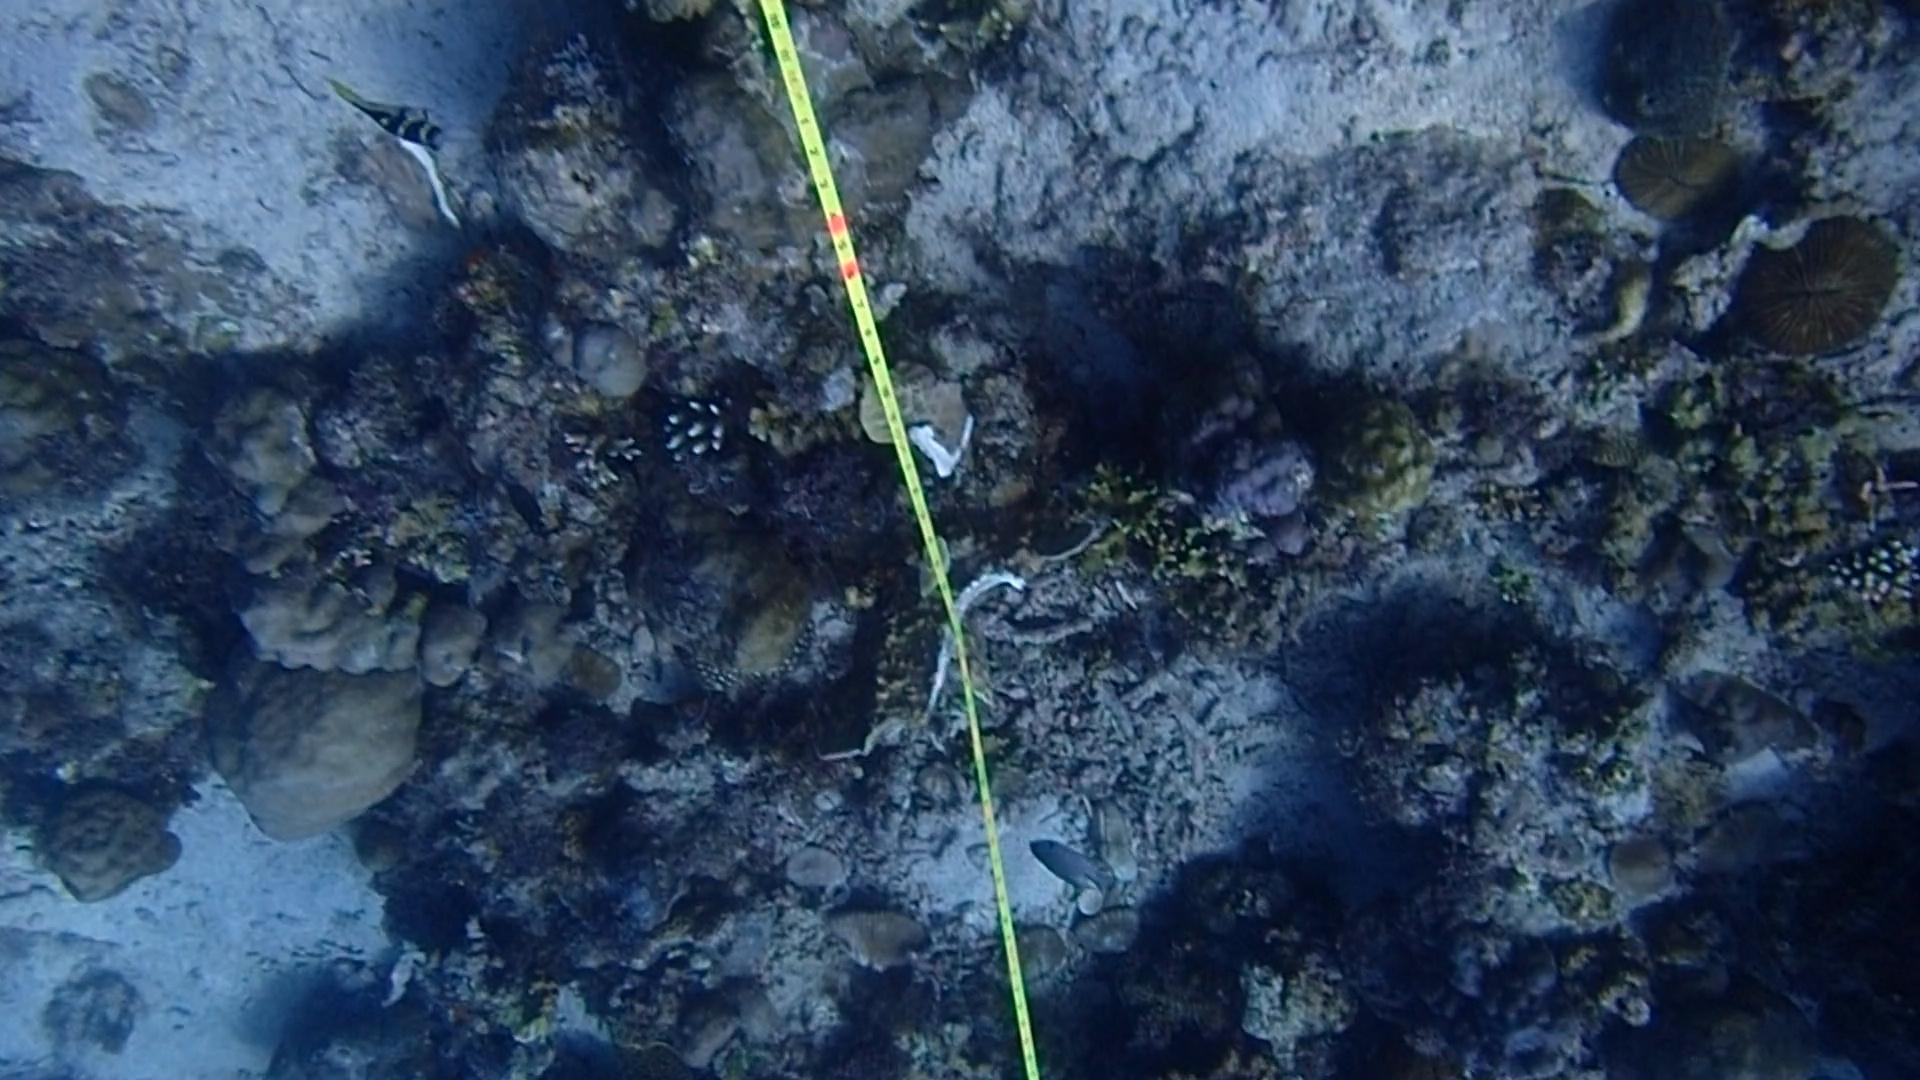Striped Fish: (338, 86, 462, 174)
